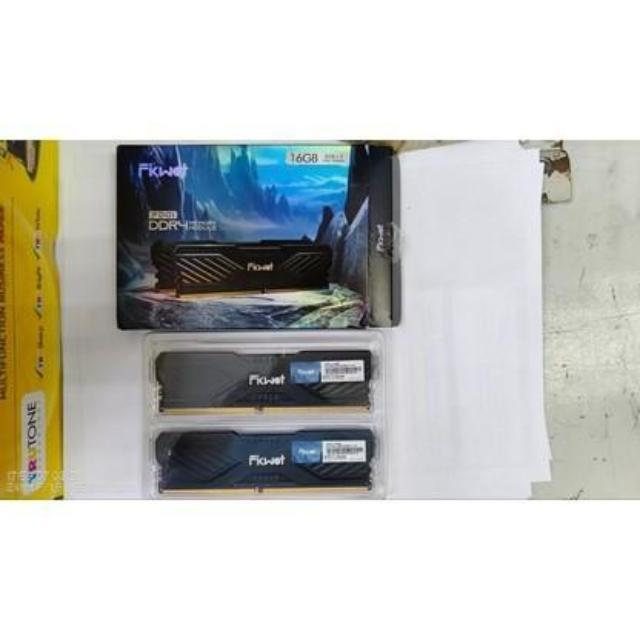RAM: (145, 342, 377, 420), (150, 426, 382, 498)
